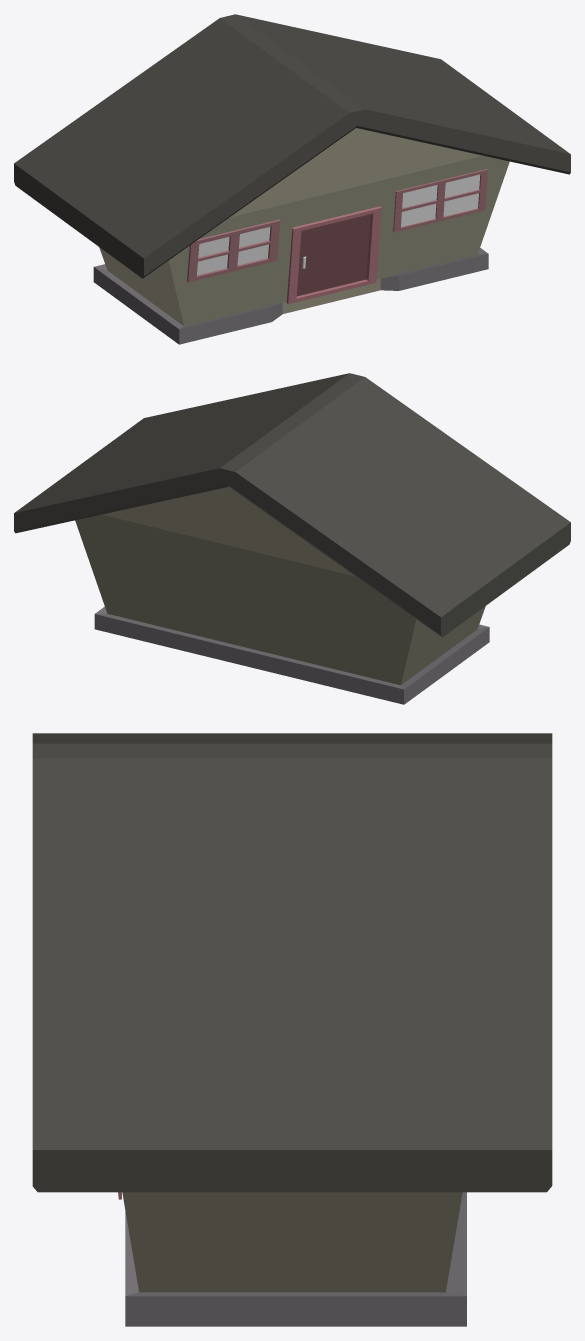
Rendered from HOUSE WIDE (KHAKI).fbx.
3 views of the same model, one above another, from view 1: azimuth 30°, elevation 25°; view 2: azimuth 150°, elevation 25°; view 3: azimuth 270°, elevation 25° (orthographic). The views are drawn at different scales.
Parts seen in each view (by area): view 1: Roof, House, Front Windows, Door; view 2: Roof, House; view 3: Roof, House.
Boxes of the visible parts, box(x1,y1,x2,y2) form: Roof: box(14, 14, 570, 278); House: box(93, 128, 509, 344); Front Windows: box(187, 169, 487, 282); Door: box(286, 206, 381, 304); Roof: box(14, 373, 570, 637); House: box(75, 487, 489, 704); Roof: box(32, 733, 552, 1192); House: box(122, 1192, 466, 1326).
Bounding box in the file's own units: 2145 × 1020 × 1130.
